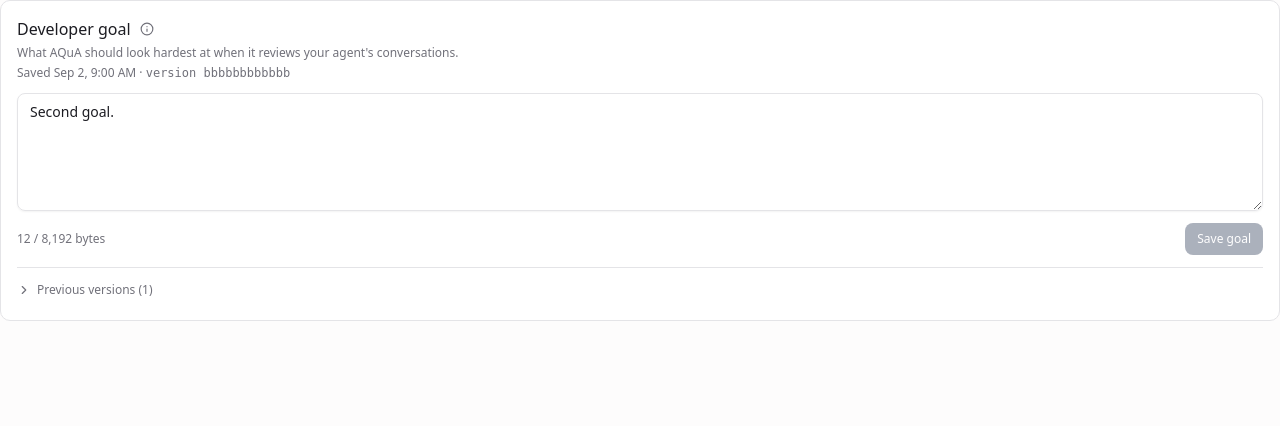
Test case: GoalCard history › lists only the versions before the saved one
This screenshot has width=1280, height=426.
Click the button "Previous versions (1)". click: (90, 290)
box: [9, 276, 1271, 304]
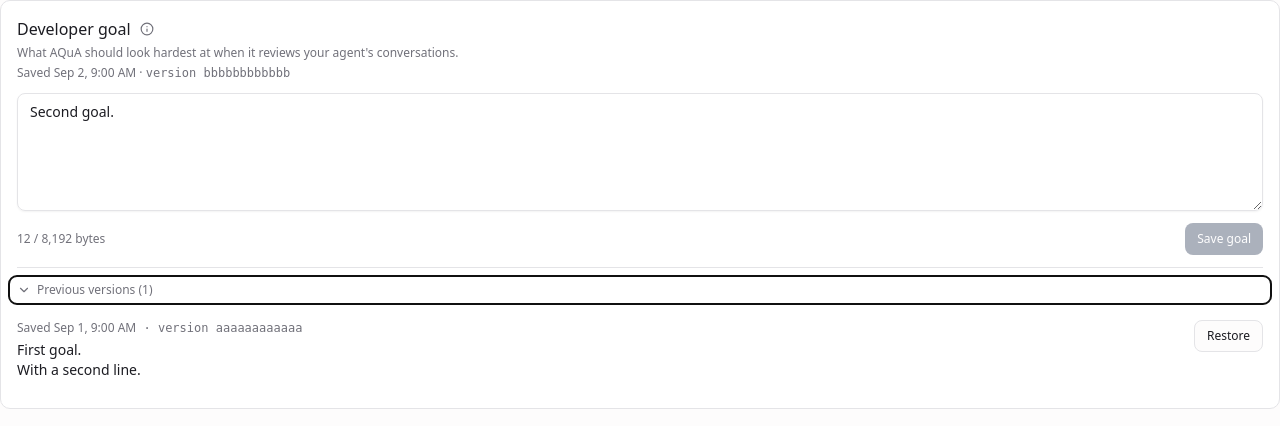
Expected: the button with aria-label "Restore version aaaaaaaaaaaa" is shown, [1194, 320, 1263, 352]
